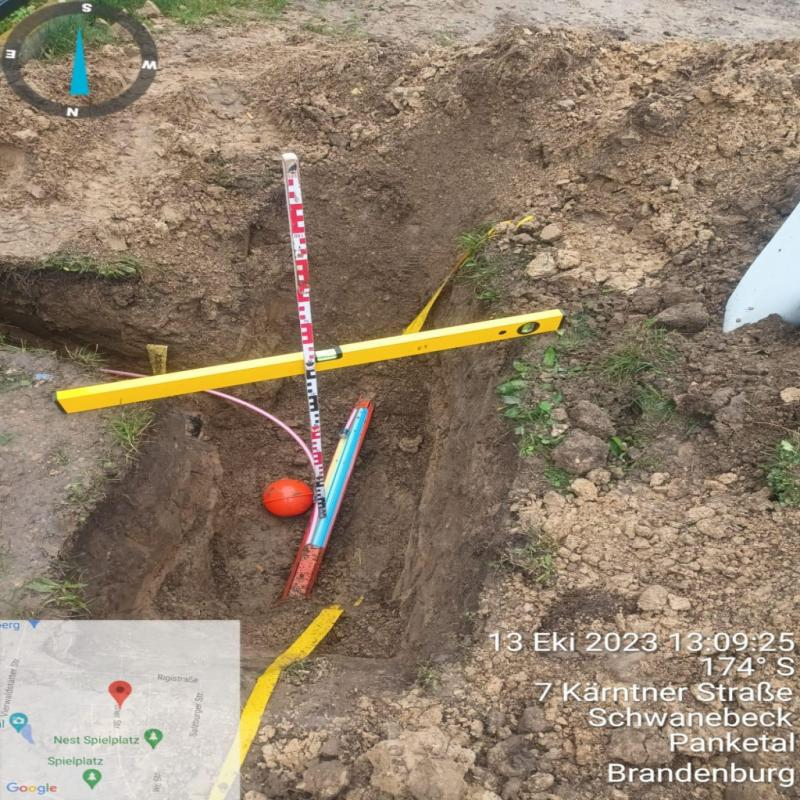Kugelmarker: (262, 477, 314, 516)
Orang-Speednetrohrchen: (283, 400, 374, 600)
